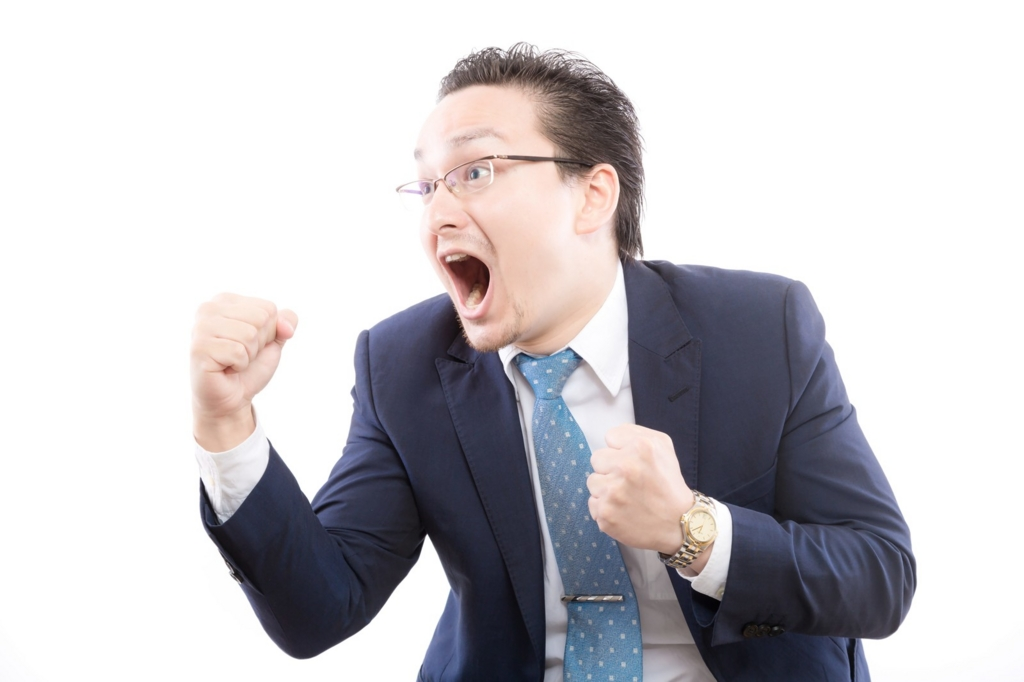face: (415, 79, 624, 355)
hand: (187, 292, 299, 434), (584, 421, 690, 554)
